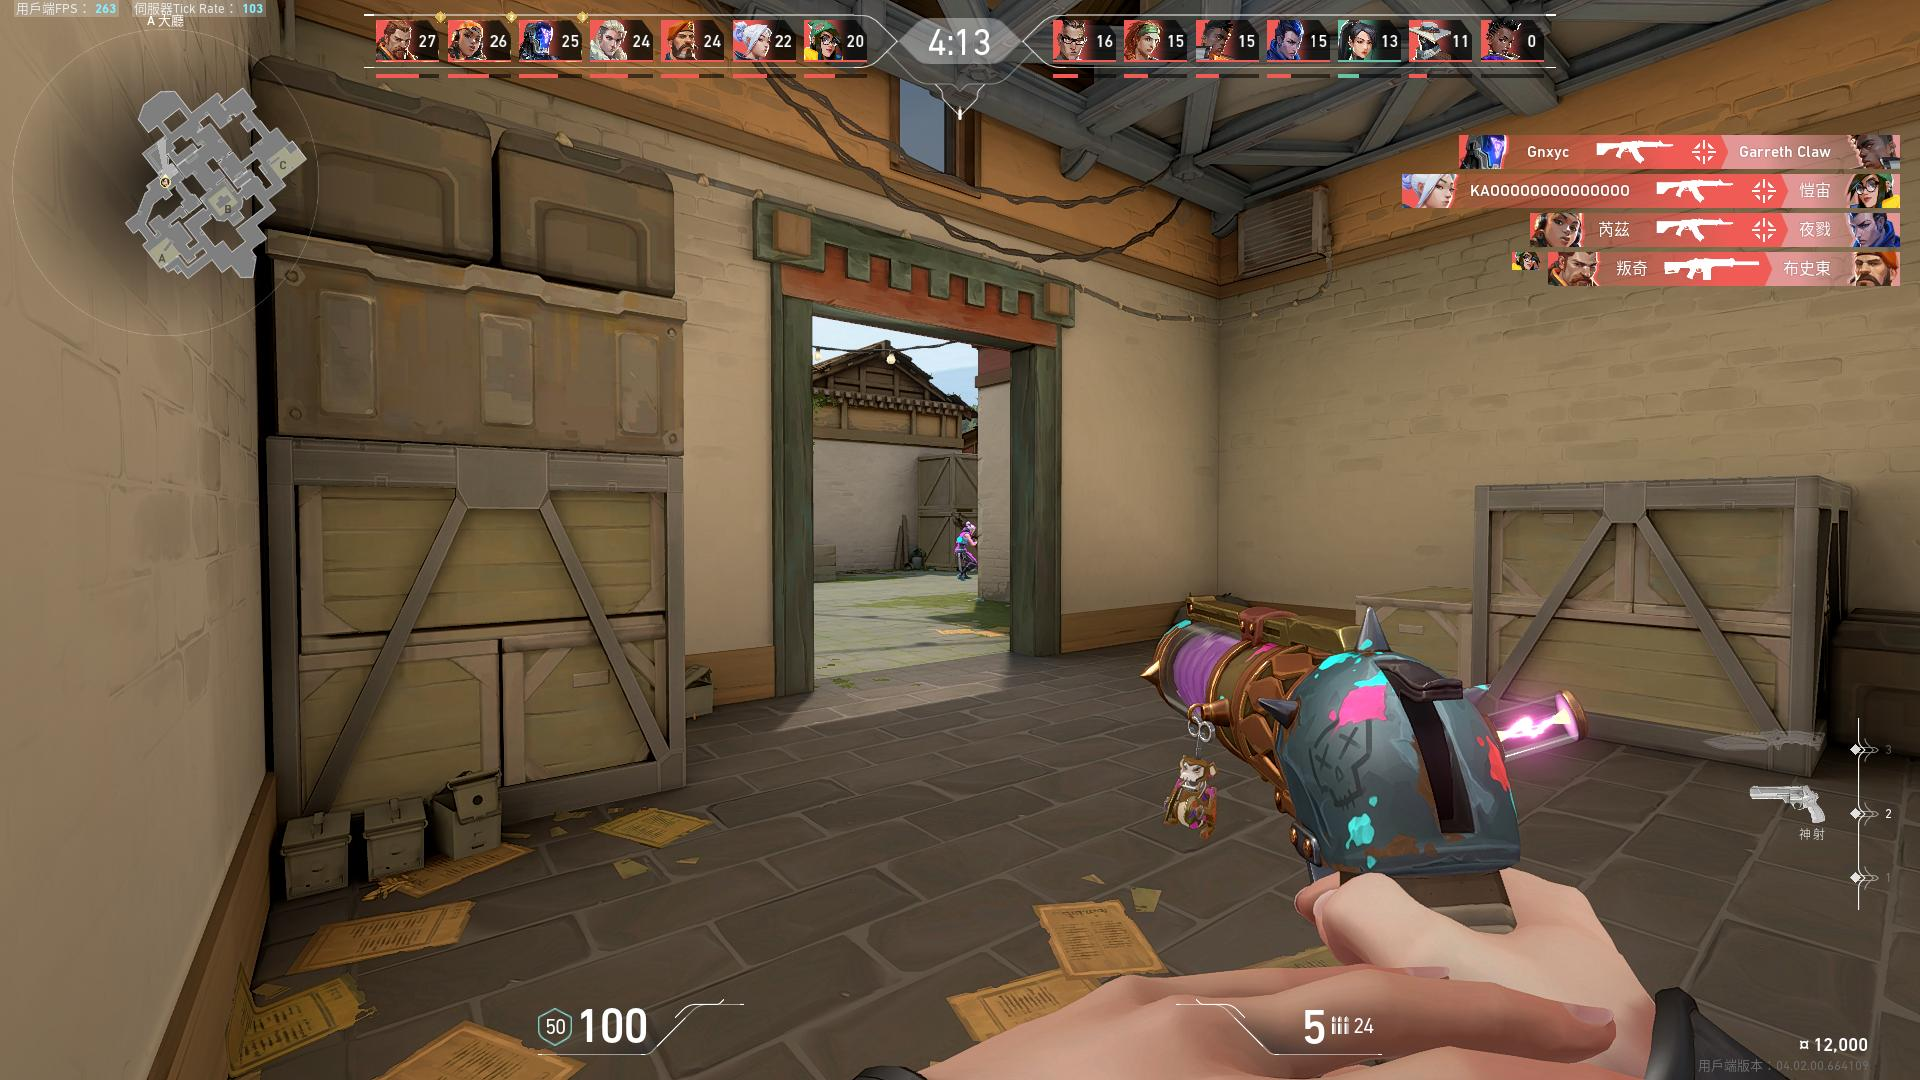enemyBody: (959, 535, 967, 553)
enemyHead: (968, 526, 975, 534)
